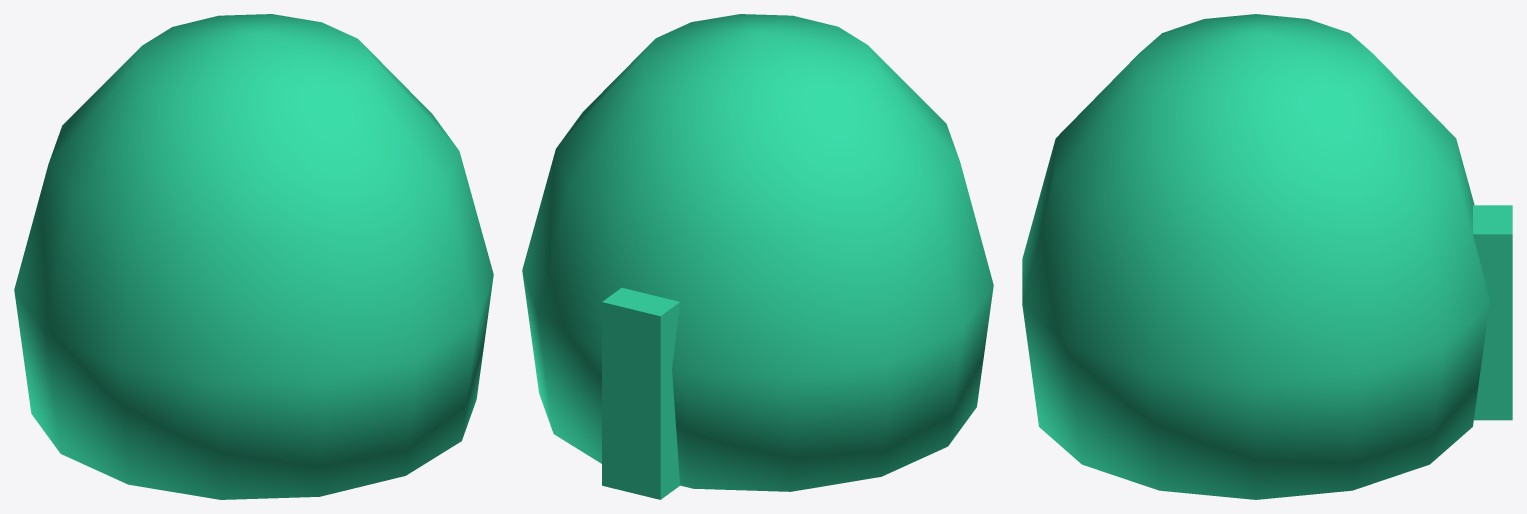
Rendered from vortex_helmet.glb.
The picture shows the model from 3 angles, left to right: view 1: azimuth 30°, elevation 25°; view 2: azimuth 150°, elevation 25°; view 3: azimuth 270°, elevation 25°; orthographic projection.
Parts seen in each view (by area): view 1: vortex_helmet_v0; view 2: vortex_helmet_v0; view 3: vortex_helmet_v0.
Boxes of the visible parts, left/top/right/bottom form: vortex_helmet_v0: left=14, top=14, right=493, bottom=499; vortex_helmet_v0: left=522, top=14, right=993, bottom=499; vortex_helmet_v0: left=1022, top=14, right=1512, bottom=499.
Size of the model in its own units: 0.28 by 0.24 by 0.2865.
